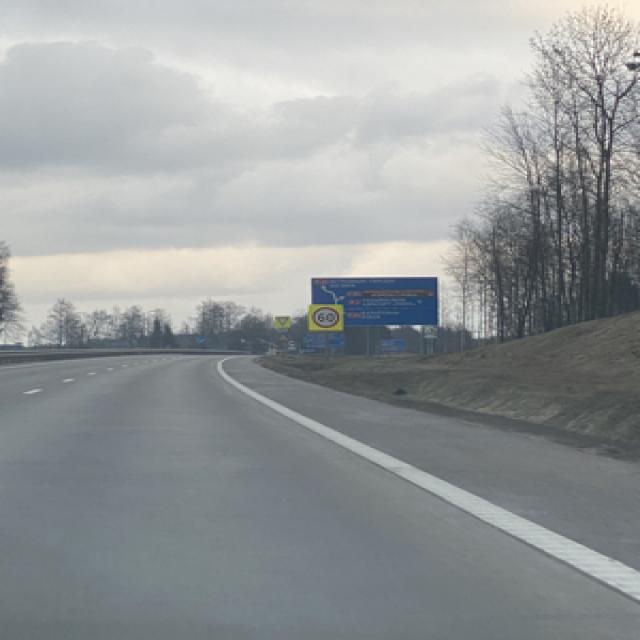speedlimit: (309, 306, 337, 326)
